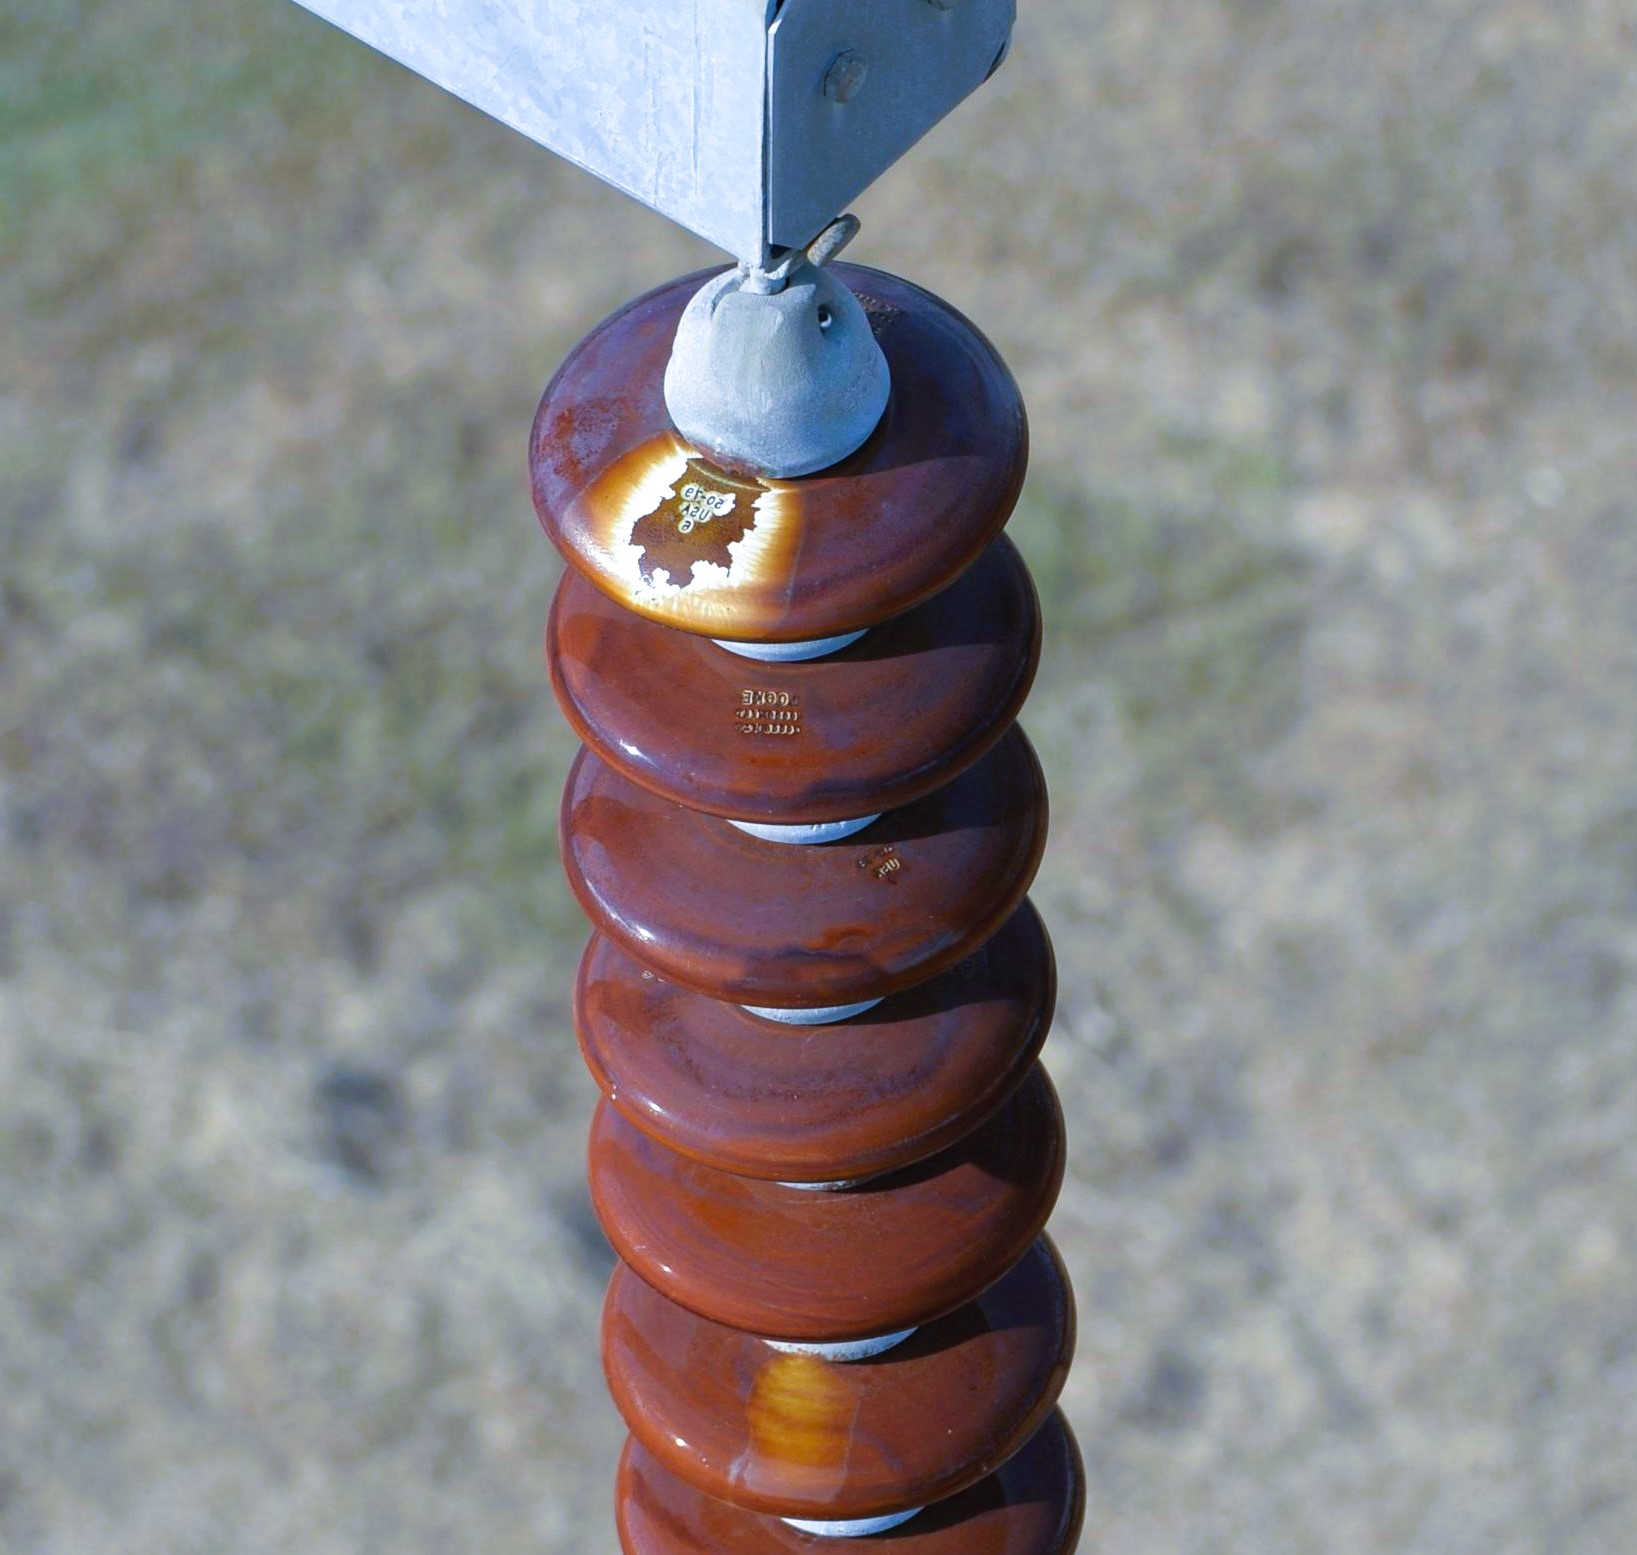Insulator flashover: (516, 243, 1038, 642)
